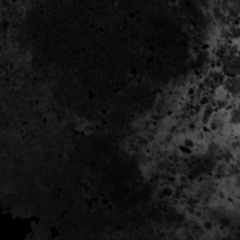Vegetation: (162, 84, 240, 240), (200, 1, 240, 73), (129, 116, 168, 165)
